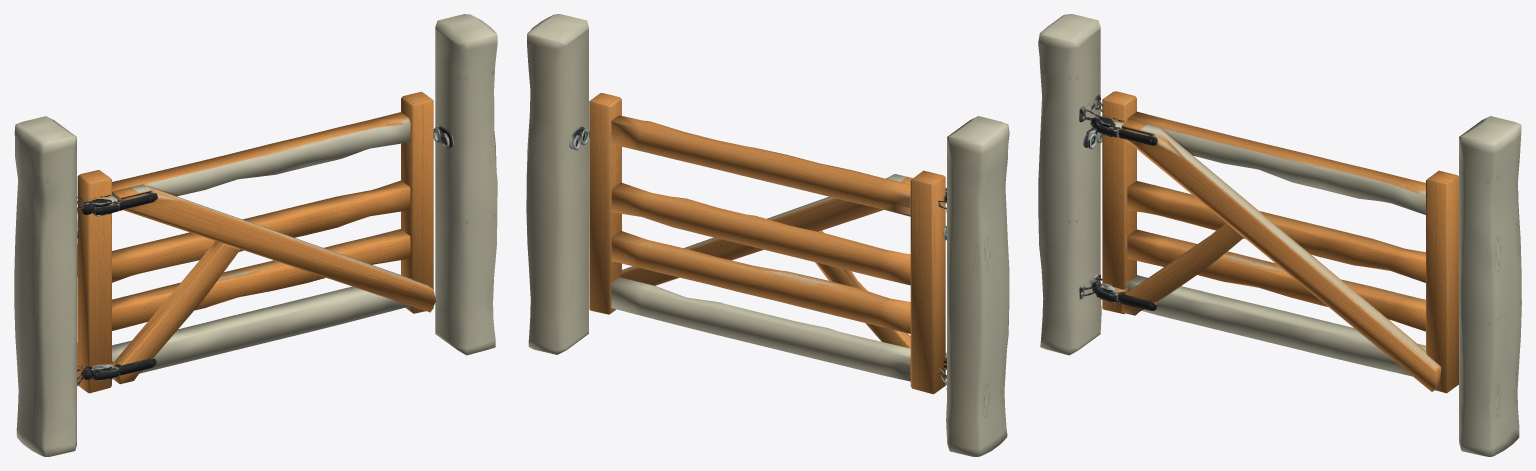
Rendered from pasture_gate.glb.
3 views of the same model, side by side, from view 1: azimuth 30°, elevation 25°; view 2: azimuth 150°, elevation 25°; view 3: azimuth 330°, elevation 25° (orthographic).
Visible parts, largest first — view 1: pasture_gate; view 2: pasture_gate; view 3: pasture_gate.
Boxes of the visible parts, left/top/right/bottom form: pasture_gate: left=14, top=14, right=497, bottom=456; pasture_gate: left=526, top=14, right=1009, bottom=456; pasture_gate: left=1038, top=14, right=1521, bottom=456.
Bounding box in the file's own units: 1.9 × 1.25 × 0.2124.
1 material, 1 textured.
